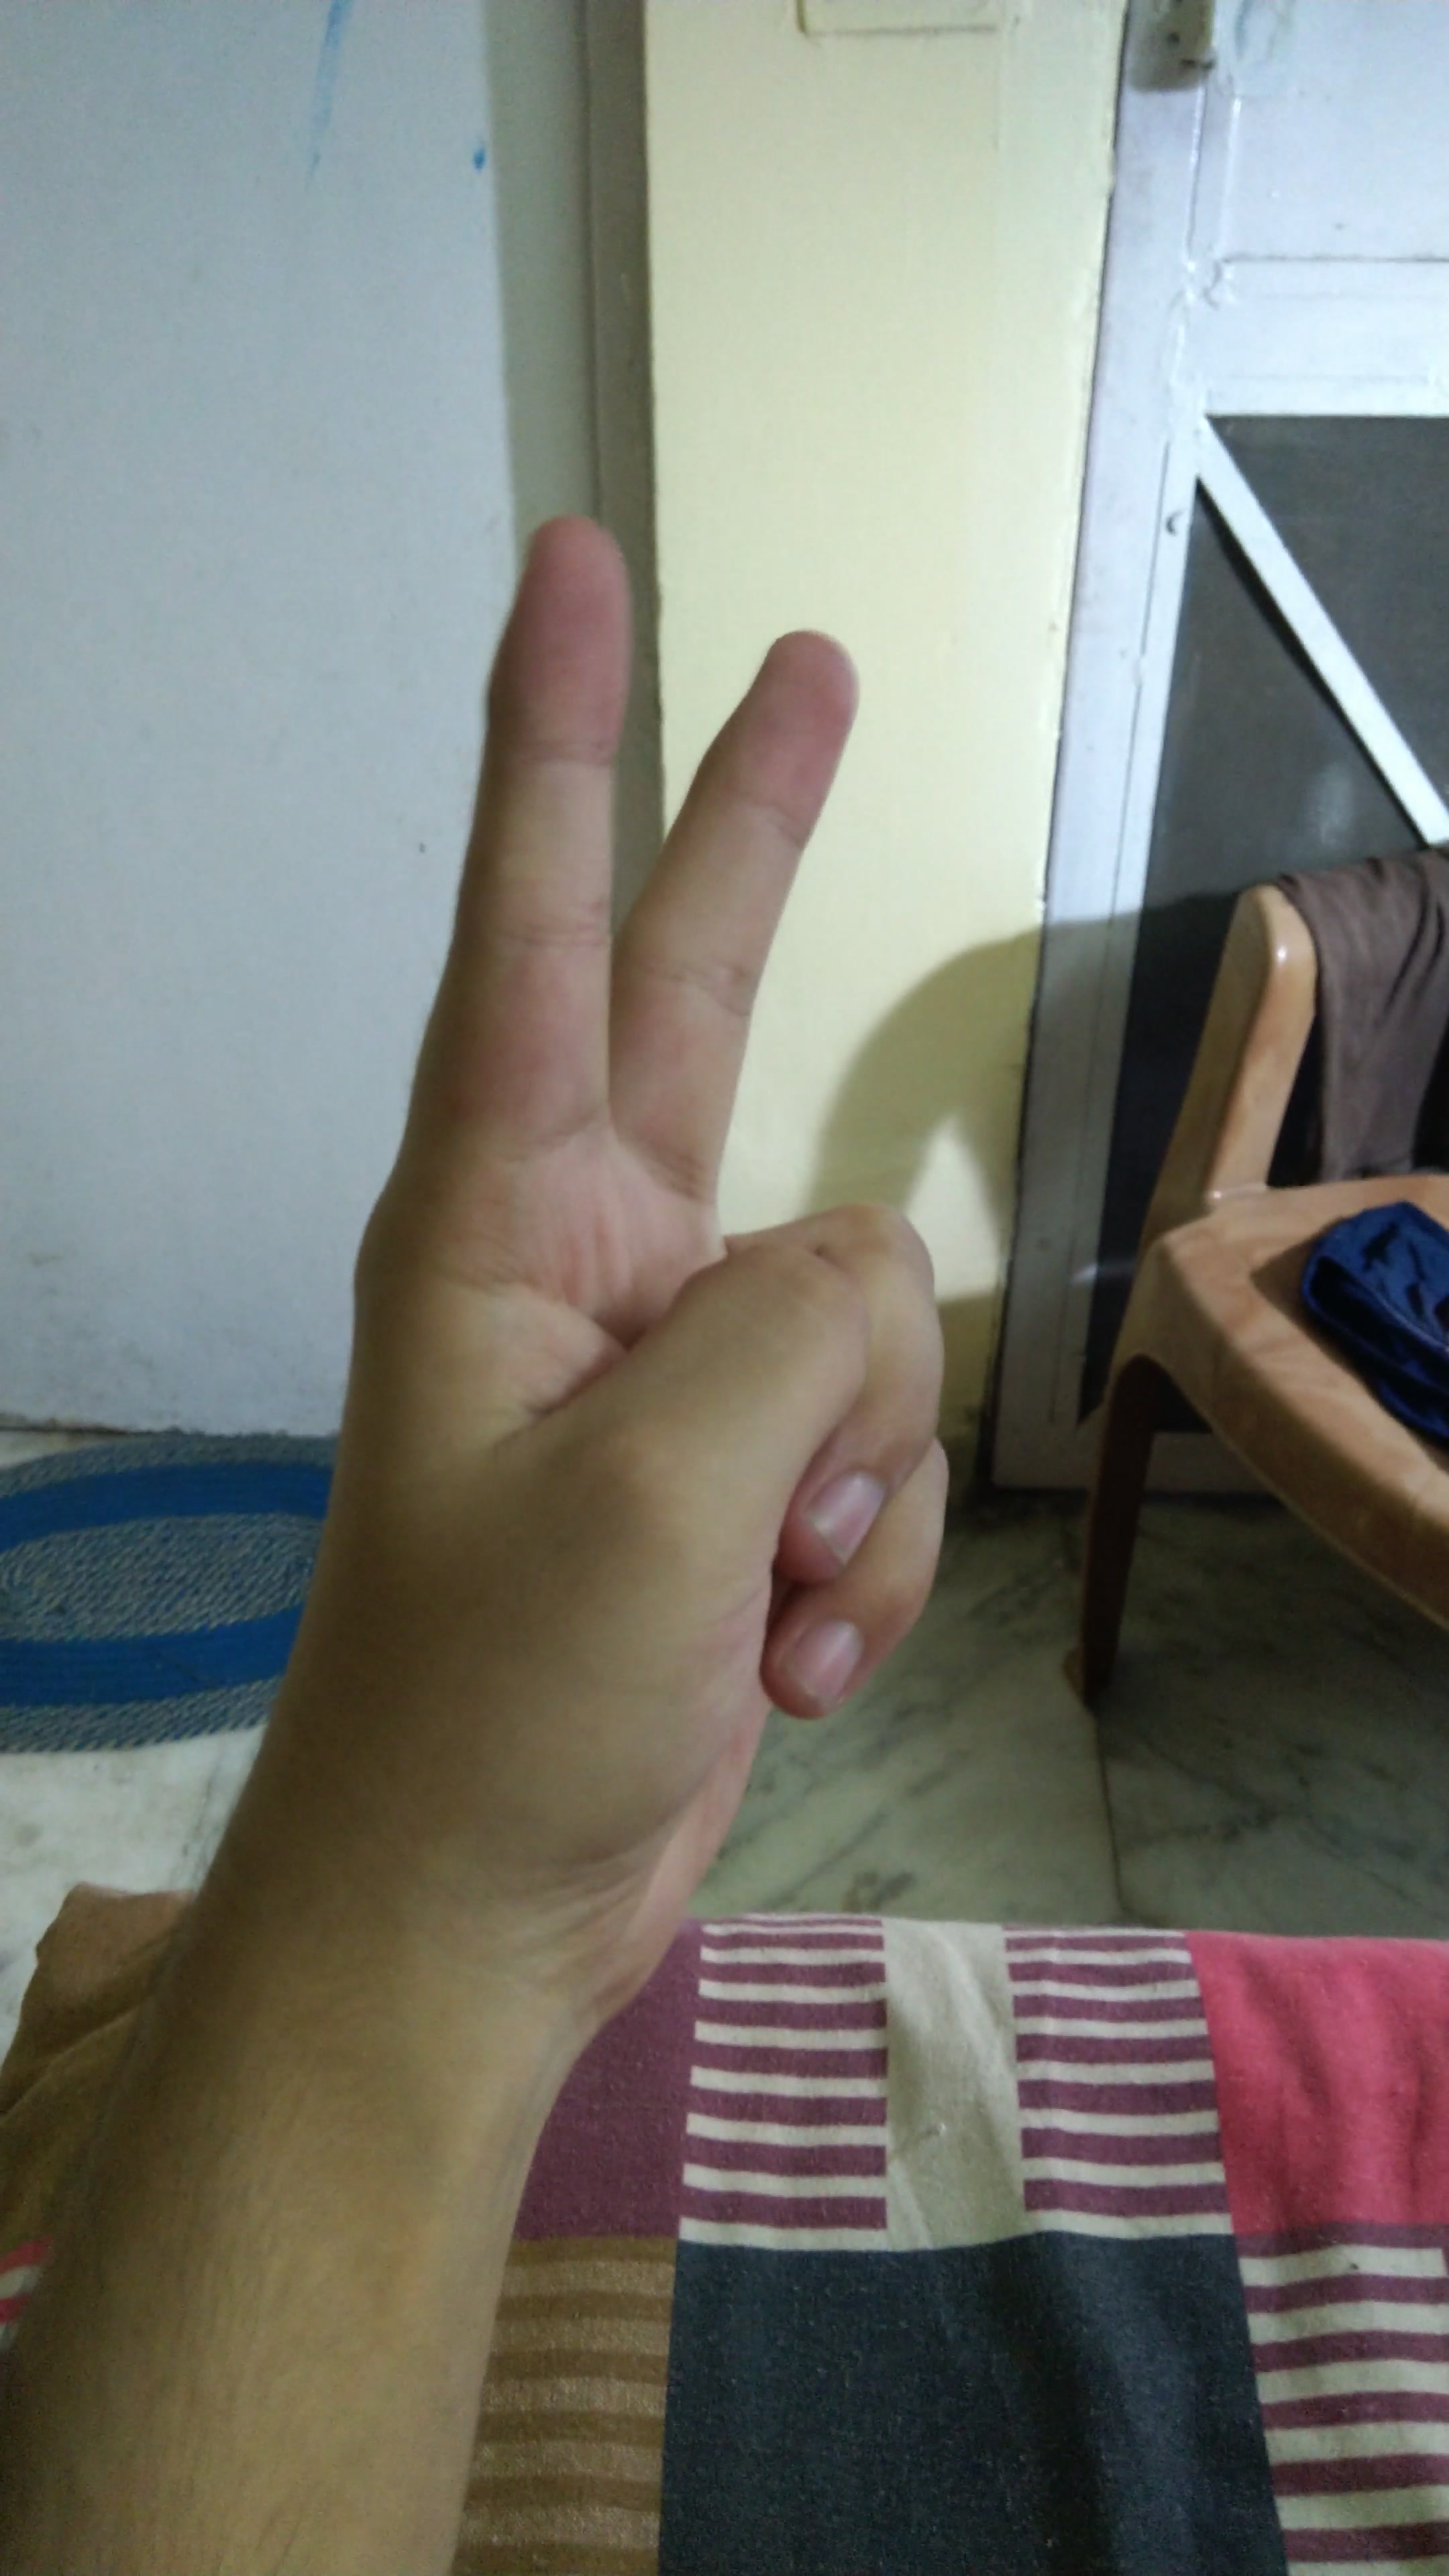hand: (177, 492, 1131, 2019)
